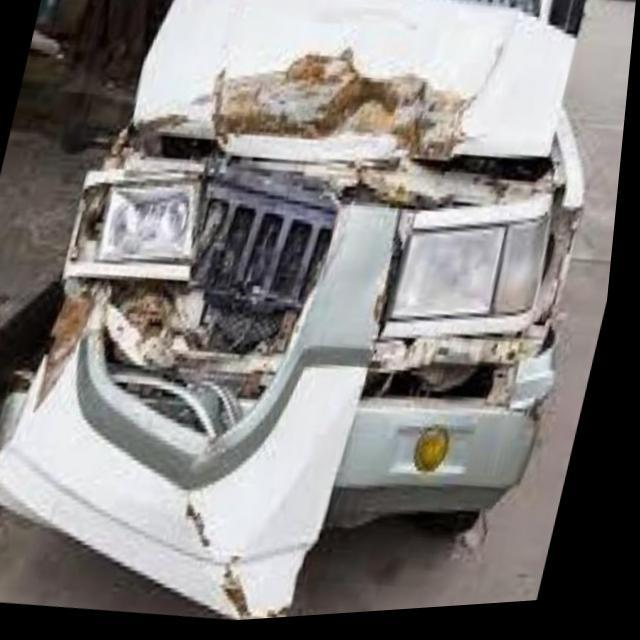dislocated part: (0, 0, 587, 623)
